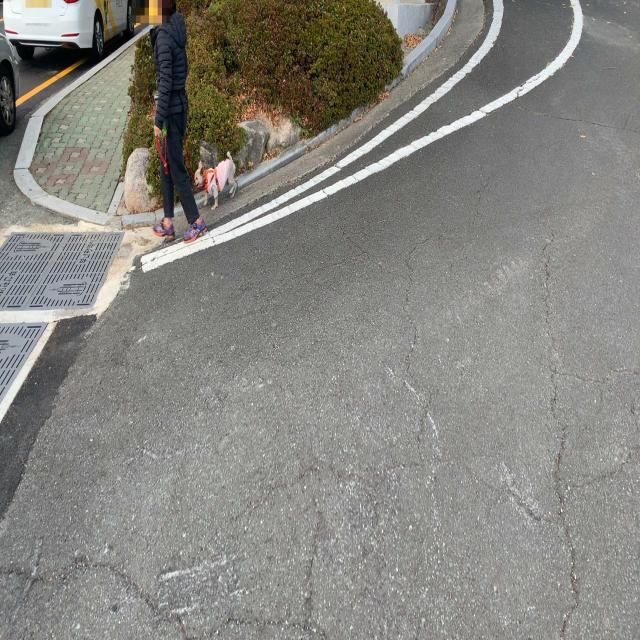Leashed_Dog: (171, 132, 238, 211)
